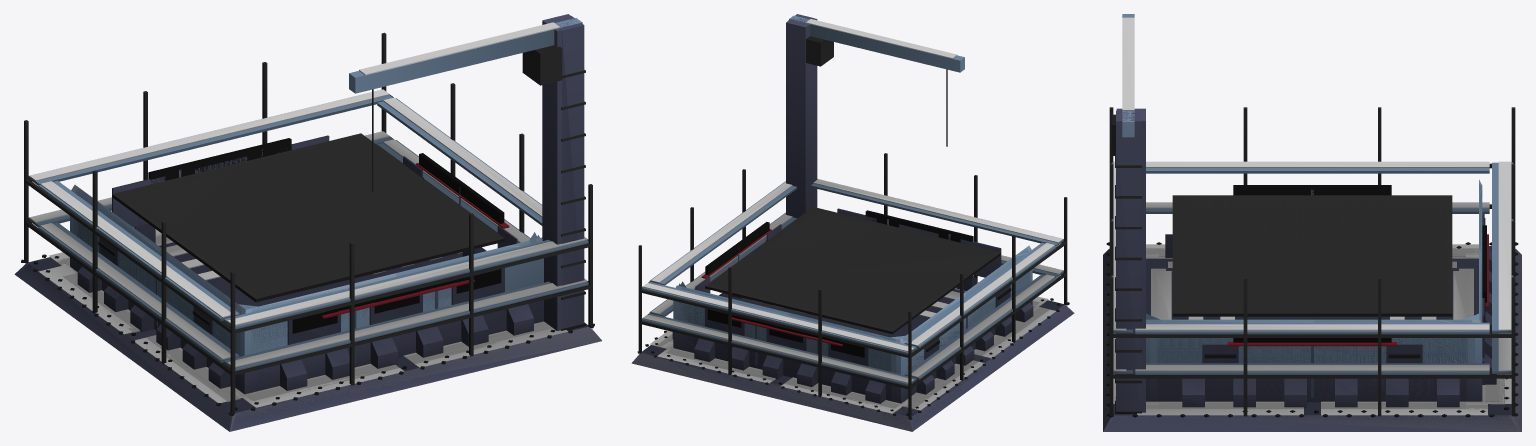
File: veyran_fortified_bunker_scaffolding.glb
3 renders of one model, left to right at view 1: azimuth 30°, elevation 25°; view 2: azimuth 150°, elevation 25°; view 3: azimuth 270°, elevation 25°, orthographic. The views are drawn at different scales.
Visible parts, largest first — view 1: body (×3); view 2: body (×3); view 3: body (×3).
Boxes of the visible parts, x1,y1,x2,y2 form: body (×3): [14, 14, 601, 431]; body (×3): [631, 14, 1074, 431]; body (×3): [1103, 14, 1521, 431].
Size of the model in its own units: 7.4 by 5.97 by 7.4.
